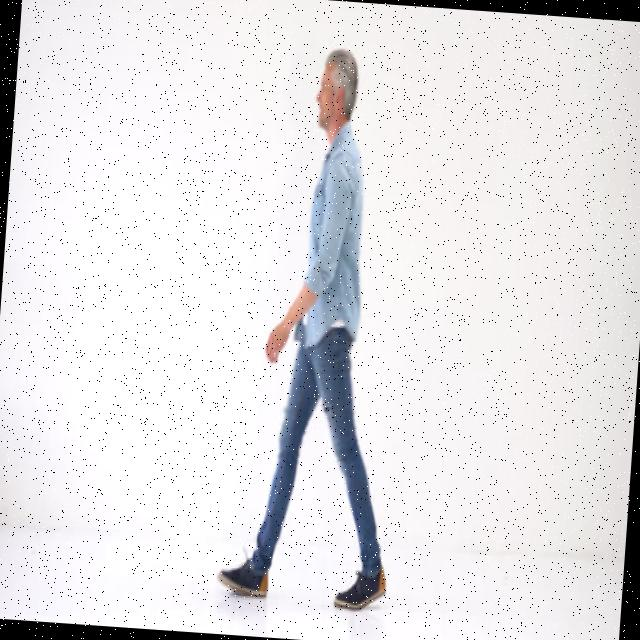Person: (215, 43, 423, 614)
